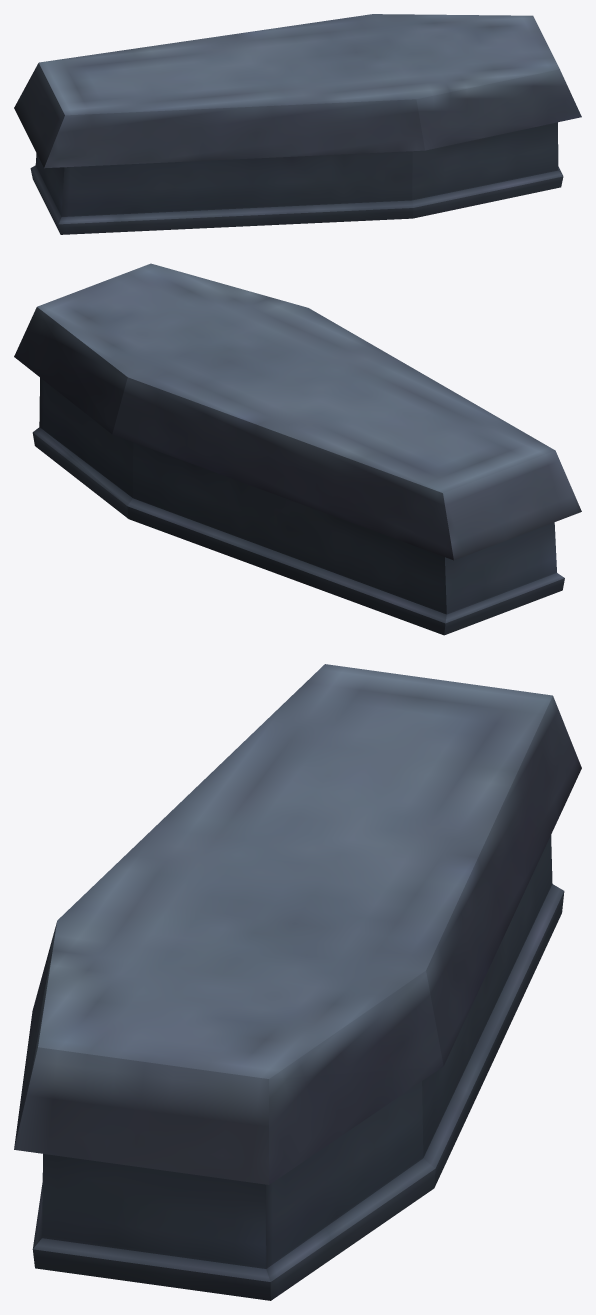
Rendered from Area12_9.fbx.
3 views of the same model, one above another, from view 1: azimuth 30°, elevation 25°; view 2: azimuth 150°, elevation 25°; view 3: azimuth 270°, elevation 25° (orthographic). The views are drawn at different scales.
Parts seen in each view (by area): view 1: Area12_9; view 2: Area12_9; view 3: Area12_9.
Boxes of the visible parts, bbox=[...] form: Area12_9: bbox=[14, 14, 581, 234]; Area12_9: bbox=[14, 263, 581, 635]; Area12_9: bbox=[14, 664, 581, 1300].
Bounding box in the file's own units: 360 × 81.91 × 191.
